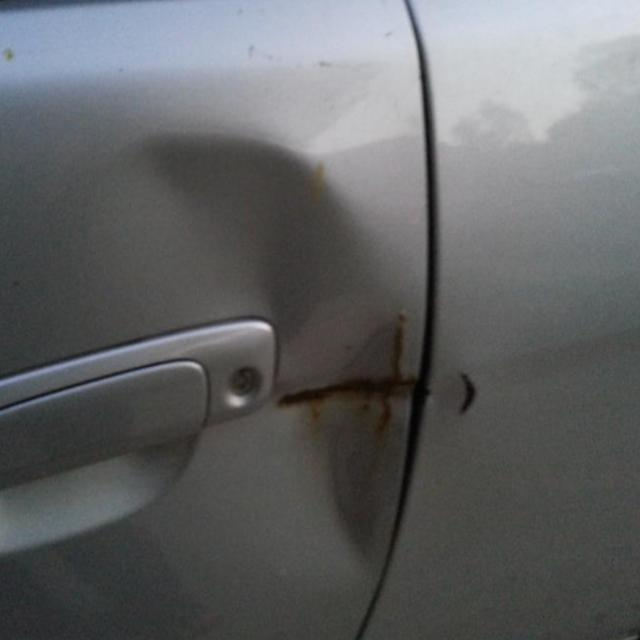dents: (99, 151, 430, 531)
